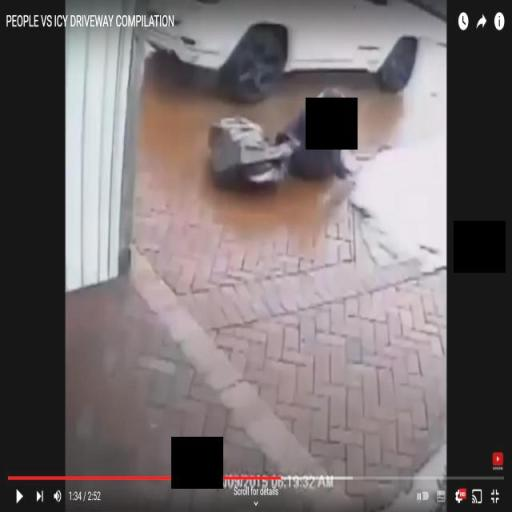Fall: (280, 87, 358, 184)
